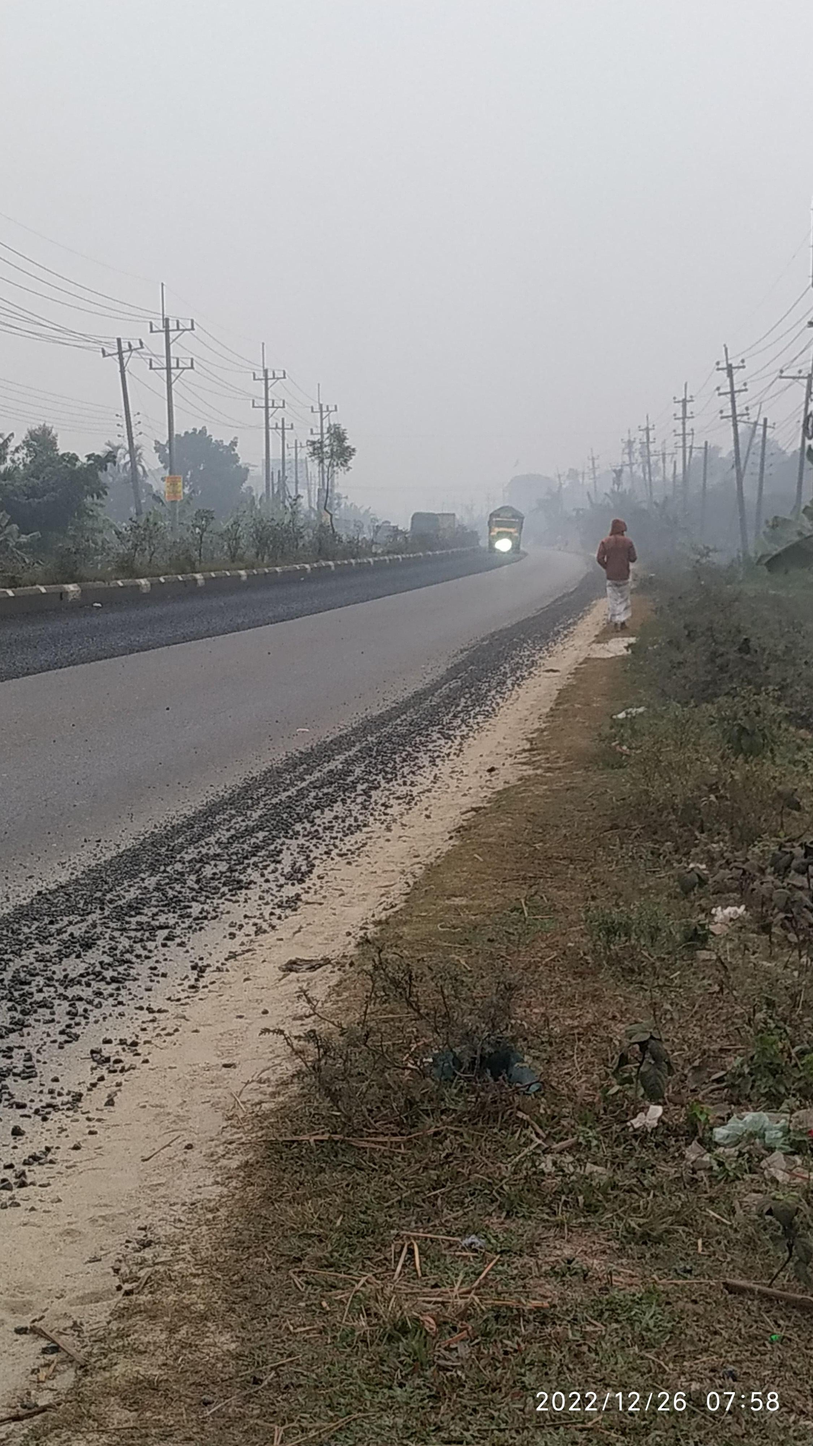Truck: (482, 499, 534, 575)
